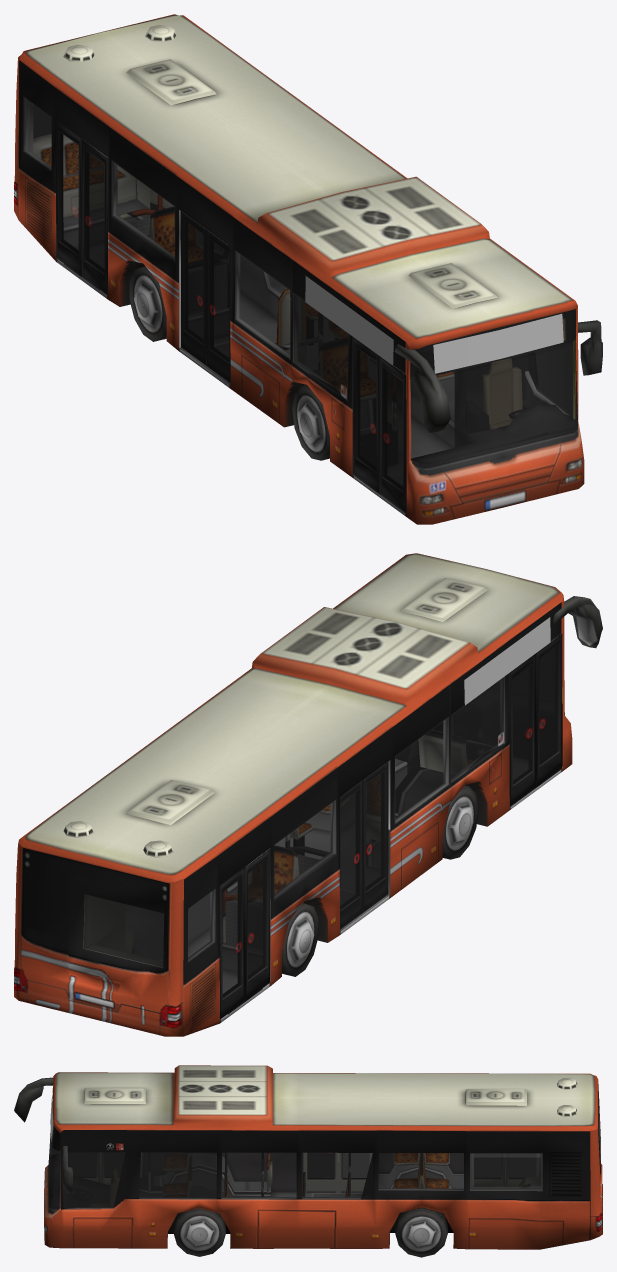
The model's file is bussam-2.FBX.
3 renders of one model, top to bottom at view 1: azimuth 30°, elevation 25°; view 2: azimuth 150°, elevation 25°; view 3: azimuth 270°, elevation 25°, orthographic. The views are drawn at different scales.
Visible parts, largest first — view 1: bussam-2, left door, right door, wheel4, wheel2; view 2: bussam-2, right door, left door, wheel4, wheel2; view 3: bussam-2, wheel3, wheel1, right door, left door.
Part boxes in pixels (<box>): bussam-2: <box>14,14,602,524</box>; left door: <box>180,211,206,365</box>; right door: <box>206,230,230,383</box>; wheel4: <box>129,266,166,341</box>; wheel2: <box>292,384,329,460</box>; bussam-2: <box>14,553,602,1036</box>; right door: <box>363,762,388,912</box>; left door: <box>340,780,362,929</box>; wheel4: <box>282,903,318,976</box>; wheel2: <box>442,785,478,859</box>; bussam-2: <box>14,1065,602,1249</box>; wheel3: <box>395,1207,447,1257</box>; wheel1: <box>173,1208,225,1256</box>; right door: <box>303,1153,337,1192</box>; left door: <box>338,1153,372,1192</box>.
Bounding box in the file's own units: 203 × 196 × 732.
